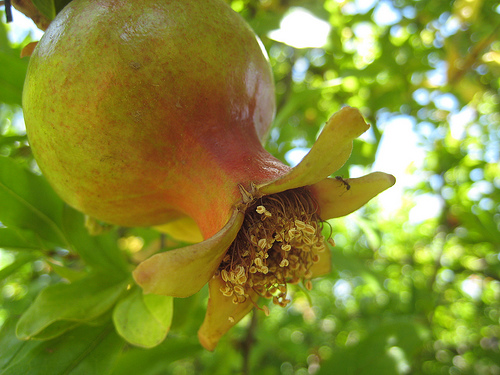pomogranate: (18, 0, 414, 334)
